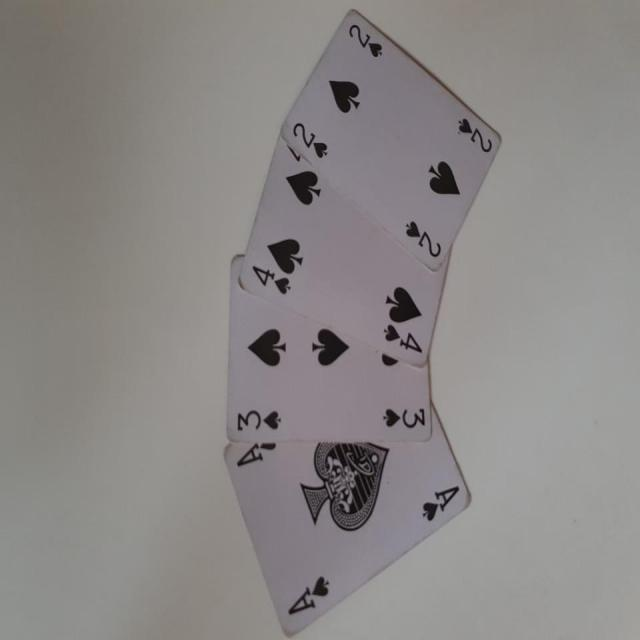2 Spades: (278, 4, 505, 270)
3 Spades: (221, 325, 439, 442)
4 Spades: (234, 137, 449, 371)
A Spades: (222, 438, 482, 632)
